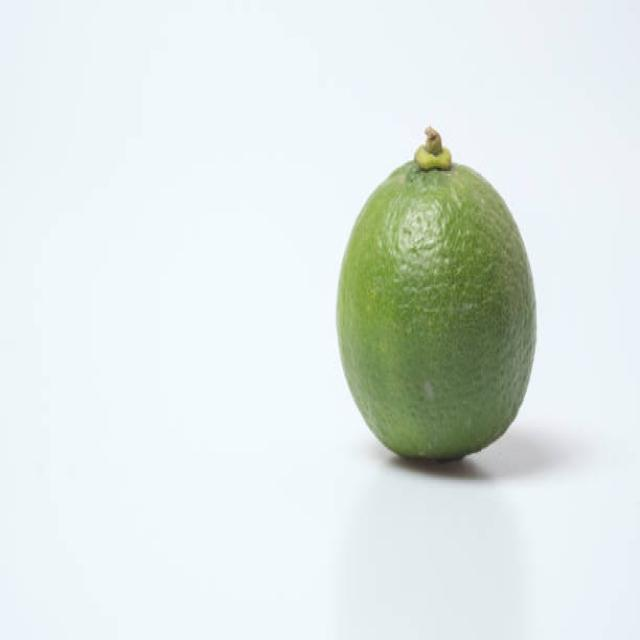Lemon: (335, 129, 539, 464)
